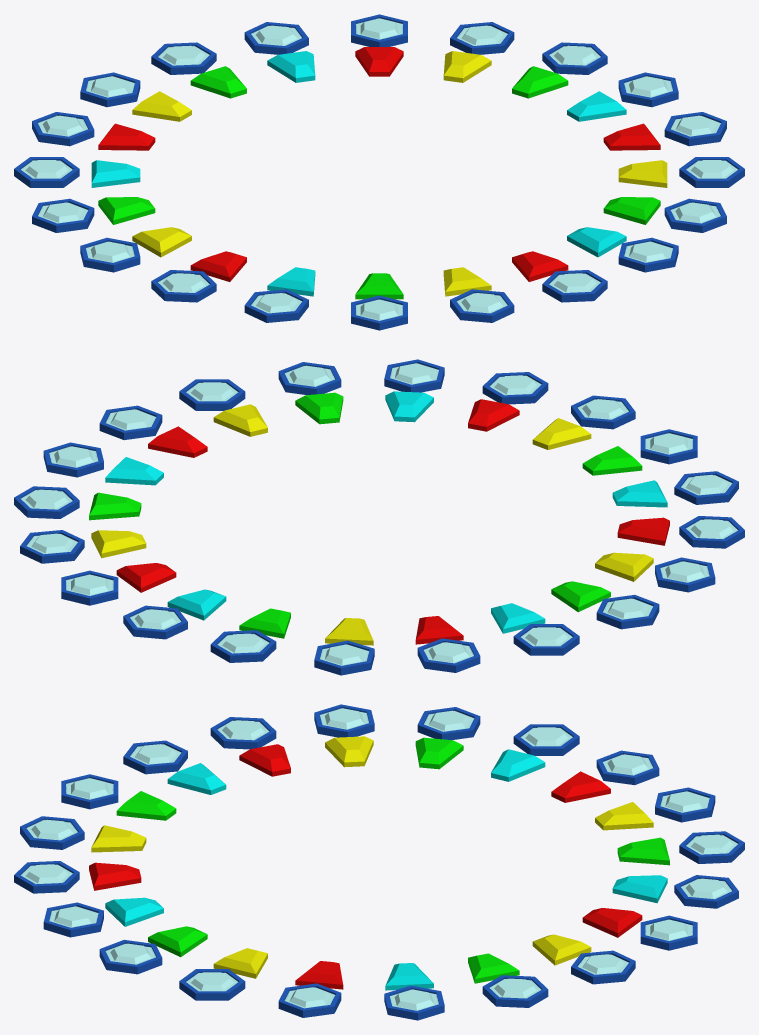
File: ZhuanPan.fbx
3 renders of one model, top to bottom at view 1: azimuth 30°, elevation 25°; view 2: azimuth 150°, elevation 25°; view 3: azimuth 270°, elevation 25°, orthographic.
Parts seen in each view (by area): view 1: polySurface86, polySurface90, polySurface80, polySurface96, polySurface87, polySurface89, polySurface79, polySurface82, polySurface84, polySurface92, polySurface94, polySurface97 (+28 smaller); view 2: polySurface80, polySurface83, polySurface86, polySurface96, polySurface90, polySurface93, polySurface79, polySurface87, polySurface89, polySurface97, polySurface82, polySurface84 (+28 smaller); view 3: polySurface96, polySurface93, polySurface80, polySurface90, polySurface83, polySurface86, polySurface79, polySurface87, polySurface89, polySurface97, polySurface82, polySurface92 (+28 smaller).
Part boxes in pixels (x1,y1,x2,y2): polySurface86: (151,270,216,302); polySurface90: (542,270,607,302); polySurface80: (151,42,216,74); polySurface96: (542,42,607,74); polySurface87: (244,289,308,322); polySurface89: (450,289,514,322); polySurface79: (244,22,308,54); polySurface82: (32,112,94,146); polySurface84: (32,198,94,232); polySurface92: (664,198,726,232); polySurface94: (664,112,726,146); polySurface97: (450,22,514,54); polySurface80: (210,630,276,662); polySurface83: (513,624,579,655); polySurface86: (679,516,744,548); polySurface96: (14,486,79,518); polySurface90: (482,372,548,404); polySurface93: (179,379,245,410); polySurface79: (123,605,187,639); polySurface87: (674,471,738,504); polySurface89: (571,395,635,429); polySurface97: (20,530,84,563); polySurface82: (417,638,480,672); polySurface84: (596,594,659,629); polySurface96: (482,975,548,1007); polySurface93: (179,969,245,1000); polySurface80: (679,831,744,863); polySurface90: (14,861,79,893); polySurface83: (513,724,579,755); polySurface86: (210,717,276,749); polySurface79: (674,875,738,908); polySurface87: (123,740,187,774); polySurface89: (20,816,84,849); polySurface97: (571,950,635,984); polySurface82: (596,750,659,785); polySurface92: (99,939,162,974).
Bounding box in the file's own units: 359 × 6.3 × 359.
